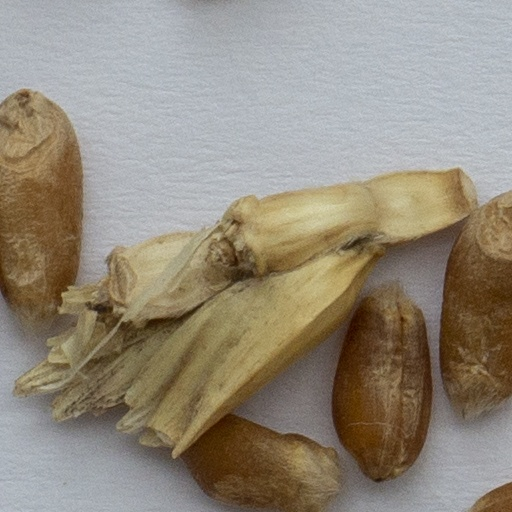Peel-poly: (16, 170, 471, 454)
